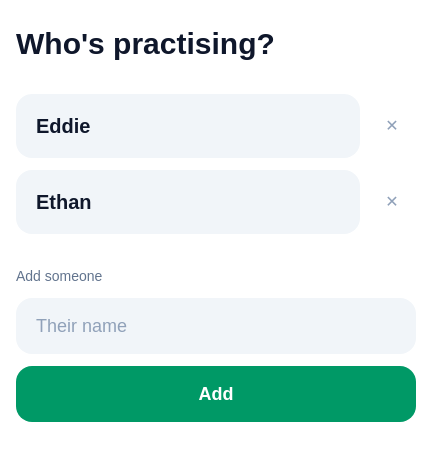
Test: the reason clears once the name changes
The width and height of the screenshot is (433, 455).
Type "Eddie" into the field at (216, 326), box [16,298,416,354]
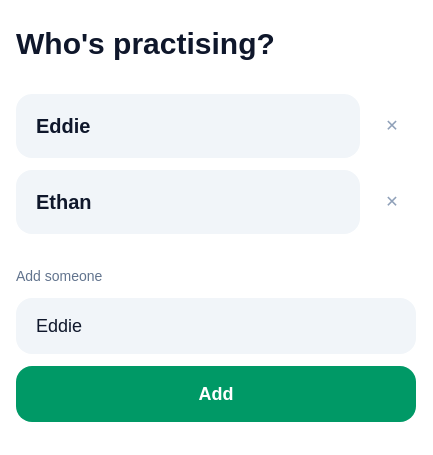
Click the button "Add" at (216, 394), box [16,366,416,422]
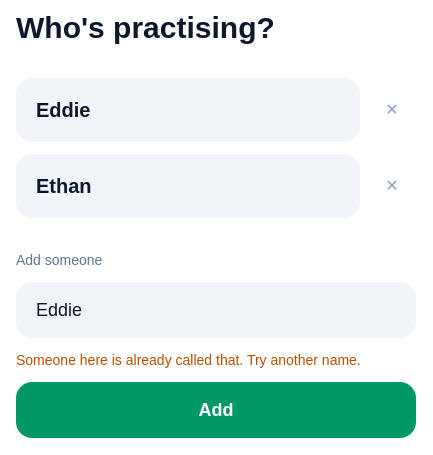
Replace the text in the field with "Edward" at (216, 310), box [16,282,416,338]
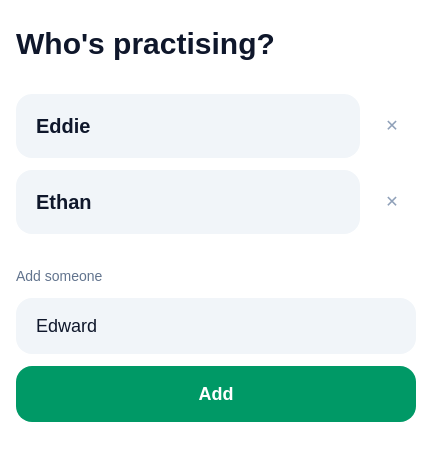
Check: the text "already" is gone
